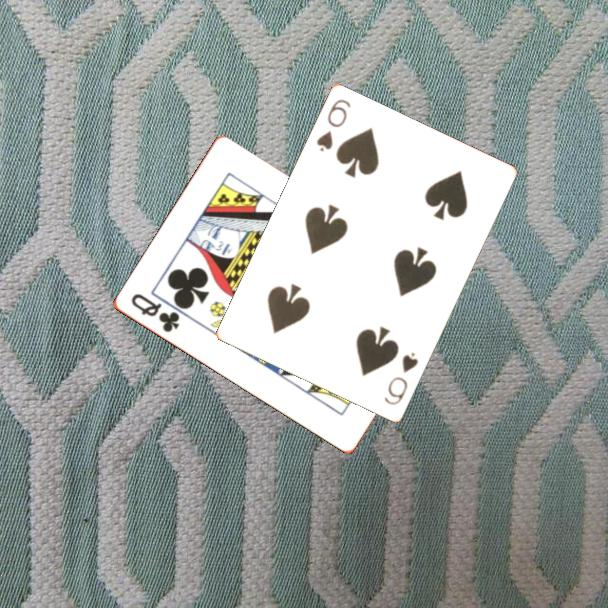c12: (127, 290, 182, 335)
s06: (313, 96, 354, 155), (381, 349, 421, 408)
